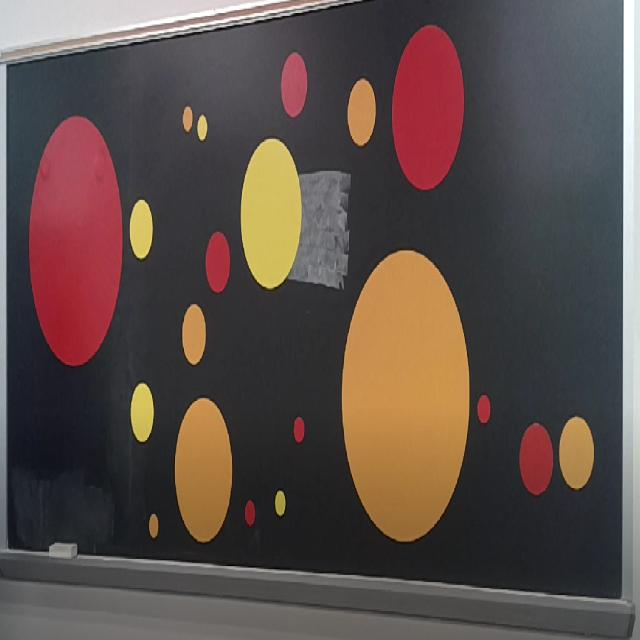Orange: (341, 248, 469, 543), (174, 396, 232, 544), (559, 415, 595, 491), (346, 76, 376, 148), (182, 303, 206, 365), (183, 105, 193, 132), (148, 514, 158, 538)
Red: (28, 114, 124, 368), (392, 23, 465, 191), (519, 422, 554, 496), (281, 50, 307, 119), (206, 230, 230, 292), (476, 393, 491, 424), (293, 415, 304, 444), (245, 499, 255, 526)
Yellow: (241, 138, 302, 288), (130, 383, 154, 443), (130, 200, 153, 260), (197, 114, 208, 143), (275, 490, 286, 516)
